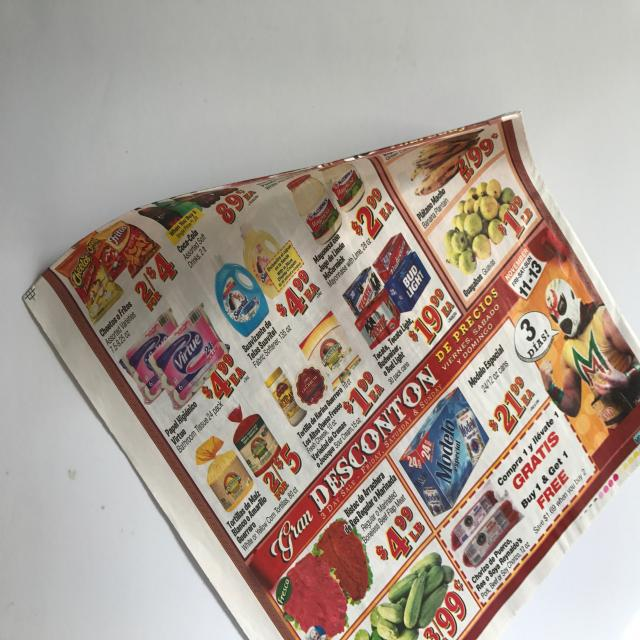Paper: (3, 104, 640, 640)
